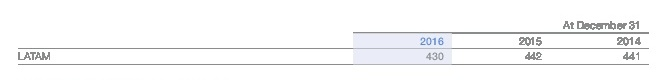table: (0, 0, 658, 80)
